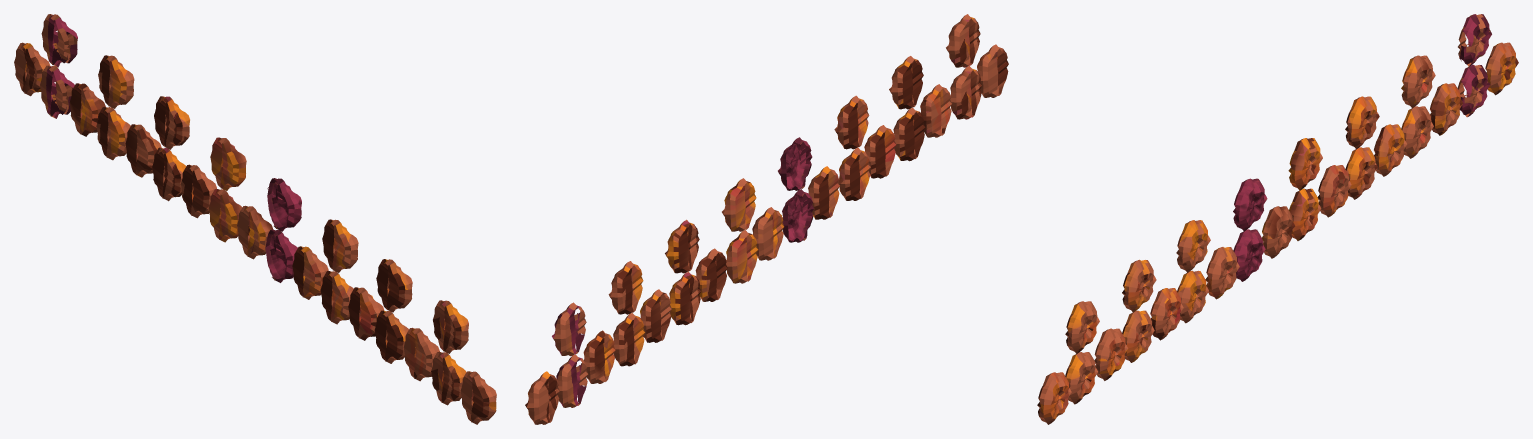
File: flores together.fbx
3 views of the same model, side by side, from view 1: azimuth 30°, elevation 25°; view 2: azimuth 150°, elevation 25°; view 3: azimuth 330°, elevation 25° (orthographic).
Visible parts, largest first — view 1: Sphere.004, Sphere.015, Sphere.012, Sphere.007, Sphere.011, Sphere.008, Sphere, Sphere.003, Sphere.017, Sphere.001, Sphere.009, Sphere.002 (+5 smaller); view 2: Sphere, Sphere.008, Sphere.004, Sphere.011, Sphere.015, Sphere.007, Sphere.003, Sphere.012, Sphere.013, Sphere.014, Sphere.010, Sphere.006 (+5 smaller); view 3: Sphere.015, Sphere.004, Sphere.007, Sphere.011, Sphere.012, Sphere.008, Sphere.003, Sphere, Sphere.017, Sphere.001, Sphere.009, Sphere.006 (+5 smaller).
Boxes of the visible parts, x1,y1,x2,y2 form: Sphere.004: (431, 300, 468, 405); Sphere.015: (96, 55, 134, 160); Sphere.012: (40, 14, 77, 118); Sphere.007: (374, 259, 412, 363); Sphere.011: (152, 96, 189, 201); Sphere.008: (208, 137, 246, 242); Sphere: (320, 219, 358, 324); Sphere.003: (265, 178, 301, 282); Sphere.017: (460, 371, 496, 424); Sphere.001: (292, 246, 328, 299); Sphere.009: (180, 164, 216, 218); Sphere.002: (237, 205, 273, 259); Sphere: (834, 95, 870, 200); Sphere.008: (722, 178, 758, 283); Sphere.004: (946, 14, 982, 119); Sphere.011: (665, 219, 701, 325); Sphere.015: (608, 261, 644, 366); Sphere.007: (889, 56, 925, 161); Sphere.003: (778, 137, 813, 242); Sphere.012: (552, 302, 588, 407); Sphere.013: (525, 371, 559, 424); Sphere.014: (581, 330, 615, 383); Sphere.010: (640, 289, 671, 342); Sphere.006: (920, 84, 951, 137); Sphere.015: (1401, 55, 1435, 158); Sphere.004: (1065, 301, 1099, 404); Sphere.007: (1122, 259, 1156, 362); Sphere.011: (1345, 96, 1379, 199); Sphere.012: (1457, 14, 1491, 117); Sphere.008: (1288, 138, 1322, 240); Sphere.003: (1233, 178, 1267, 281); Sphere: (1176, 220, 1210, 323); Sphere.017: (1037, 372, 1071, 424); Sphere.001: (1205, 247, 1239, 299); Sphere.009: (1317, 165, 1351, 217); Sphere.006: (1094, 328, 1128, 380).
Bounding box in the file's own units: 10.15 × 54.62 × 461.
